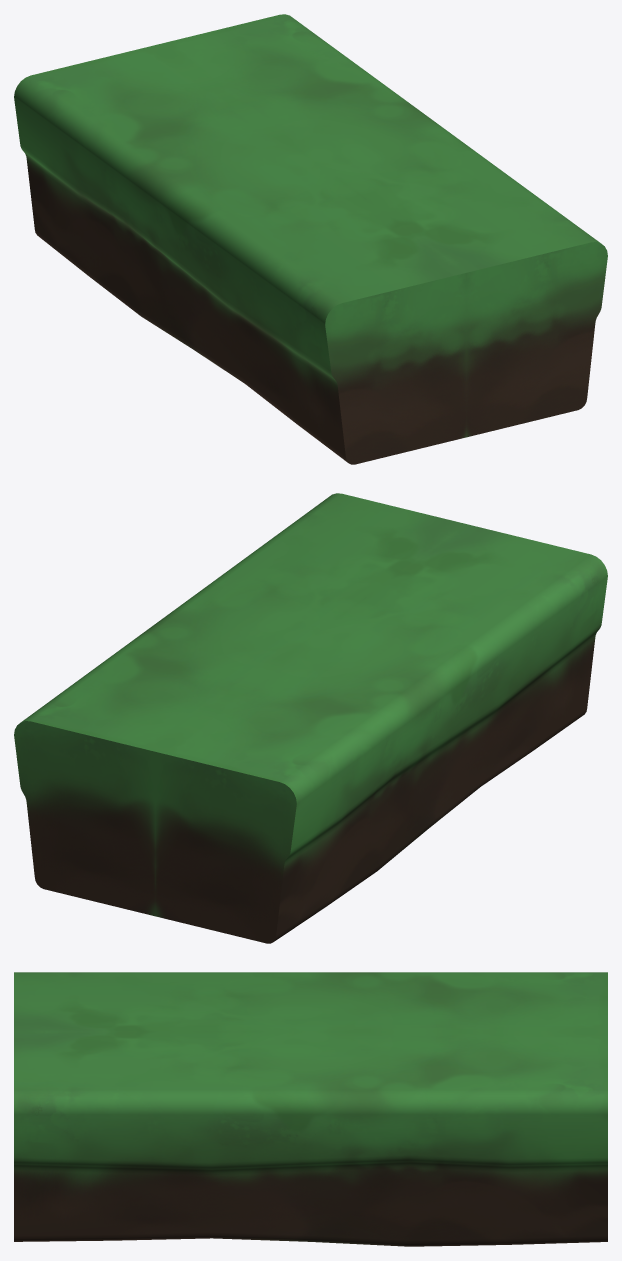
The model's file is terrain_middle_2.fbx.
The picture shows the model from 3 angles, top to bottom: view 1: azimuth 30°, elevation 25°; view 2: azimuth 150°, elevation 25°; view 3: azimuth 270°, elevation 25°; orthographic projection. The views are drawn at different scales.
Parts seen in each view (by area): view 1: terrain_middle_2; view 2: terrain_middle_2; view 3: terrain_middle_2.
Part boxes in pixels (bbox=[...]): terrain_middle_2: bbox=[14, 14, 607, 464]; terrain_middle_2: bbox=[14, 493, 607, 943]; terrain_middle_2: bbox=[14, 972, 607, 1246].
Bounding box in the file's own units: 420 × 241 × 800.
